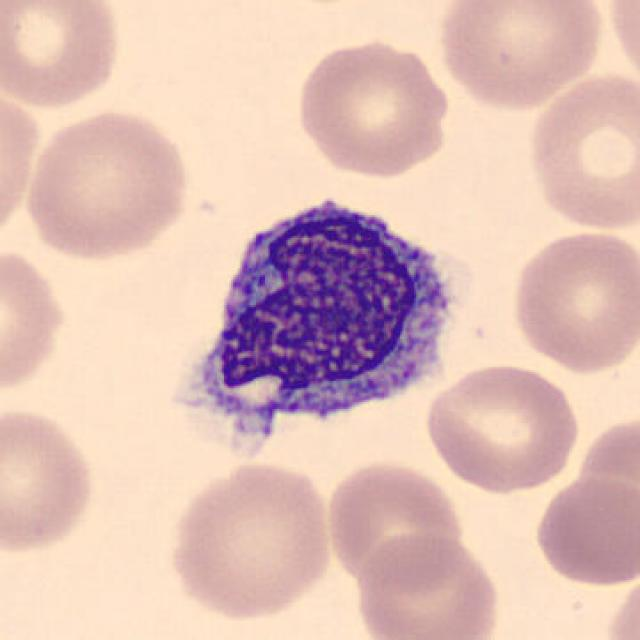Monocyte: (166, 190, 477, 478)
RBC: (164, 457, 338, 626), (20, 106, 194, 264), (292, 35, 454, 180), (420, 358, 583, 495), (432, 0, 608, 113), (320, 455, 468, 589), (507, 226, 638, 377), (523, 69, 638, 236), (350, 529, 505, 640), (0, 402, 100, 559), (0, 0, 126, 113), (530, 474, 638, 589), (0, 240, 73, 405), (0, 86, 43, 248), (602, 0, 640, 91), (601, 569, 640, 640)
